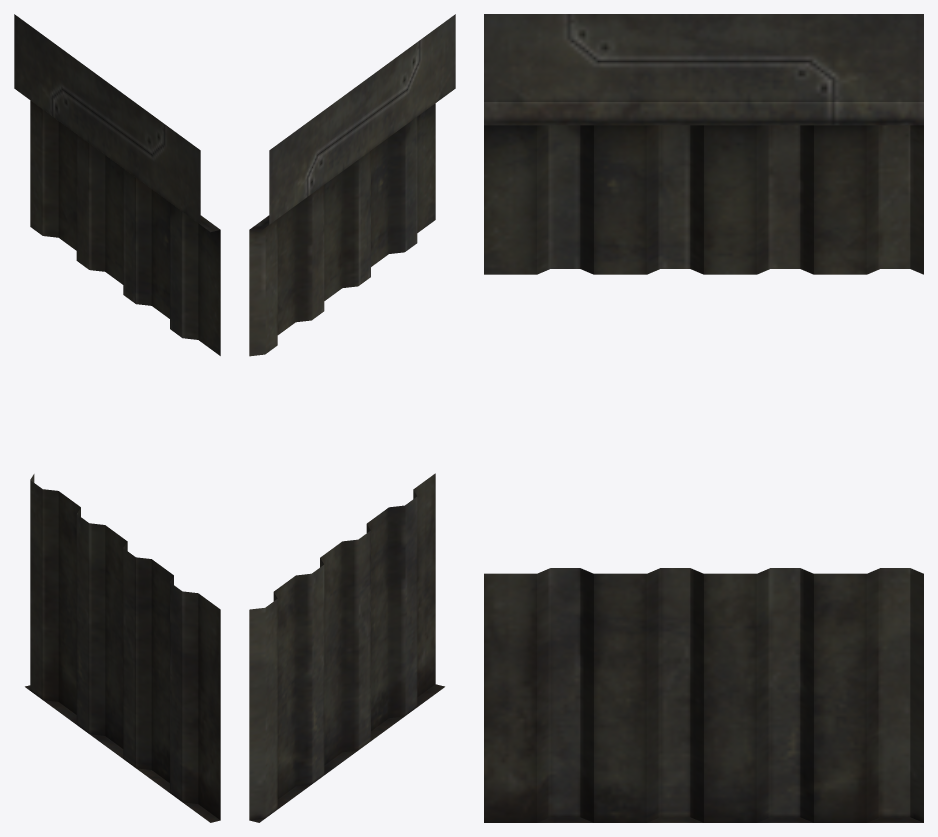
The model's file is pplant_bulkhead_short_maintenance_hatch.dae.
3 views of the same model, side by side, from view 1: azimuth 30°, elevation 25°; view 2: azimuth 150°, elevation 25°; view 3: azimuth 270°, elevation 25° (orthographic). The views are drawn at different scales.
Parts seen in each view (by area): view 1: bulkhead_short_maintenance_hatch; view 2: bulkhead_short_maintenance_hatch; view 3: bulkhead_short_maintenance_hatch.
Part boxes in pixels (<box>): bulkhead_short_maintenance_hatch: <box>14,14,220,822</box>; bulkhead_short_maintenance_hatch: <box>249,14,455,822</box>; bulkhead_short_maintenance_hatch: <box>484,14,923,822</box>.
Size of the model in its own units: 0.125 by 4 by 2.
